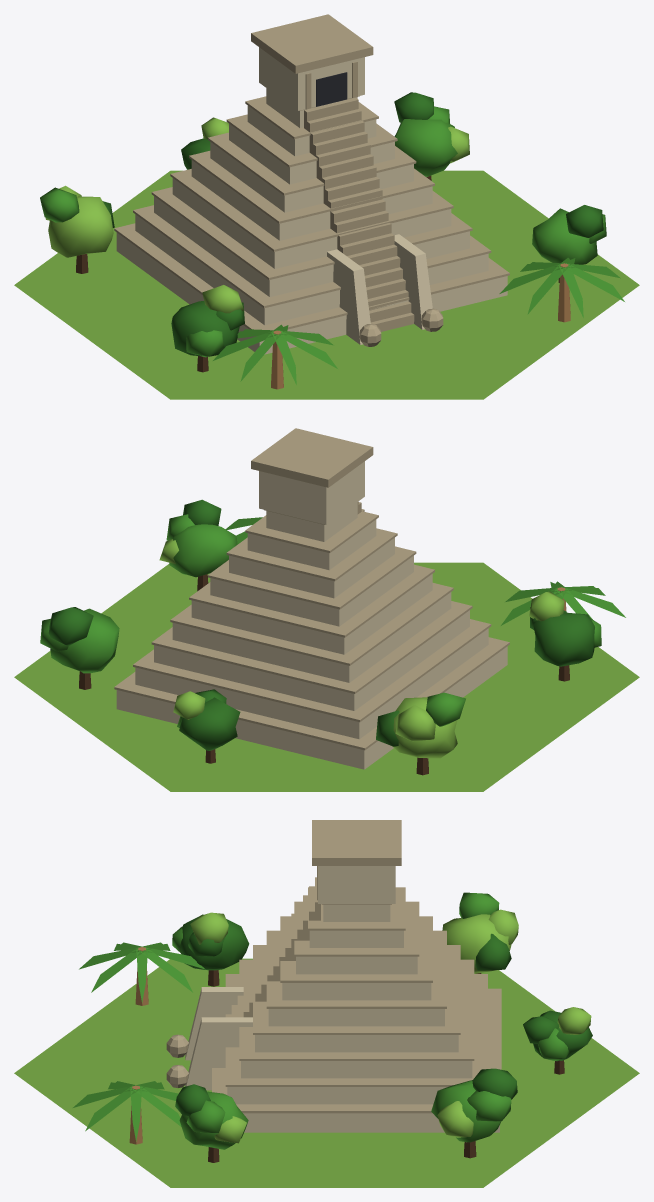
The model's file is wonder_chichen_itza.fbx.
3 renders of one model, top to bottom at view 1: azimuth 30°, elevation 25°; view 2: azimuth 150°, elevation 25°; view 3: azimuth 270°, elevation 25°, orthographic.
Parts seen in each view (by area): view 1: wonder_chichen_itza; view 2: wonder_chichen_itza; view 3: wonder_chichen_itza.
Part boxes in pixels (x1=…): wonder_chichen_itza: x1=14, y1=14, x2=639, y2=399; wonder_chichen_itza: x1=14, y1=428, x2=639, y2=791; wonder_chichen_itza: x1=14, y1=820, x2=639, y2=1187.
Bounding box in the file's own units: 182 × 86.7 × 210.
